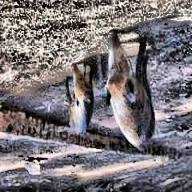boar: (101, 26, 158, 142), (50, 57, 103, 147)
